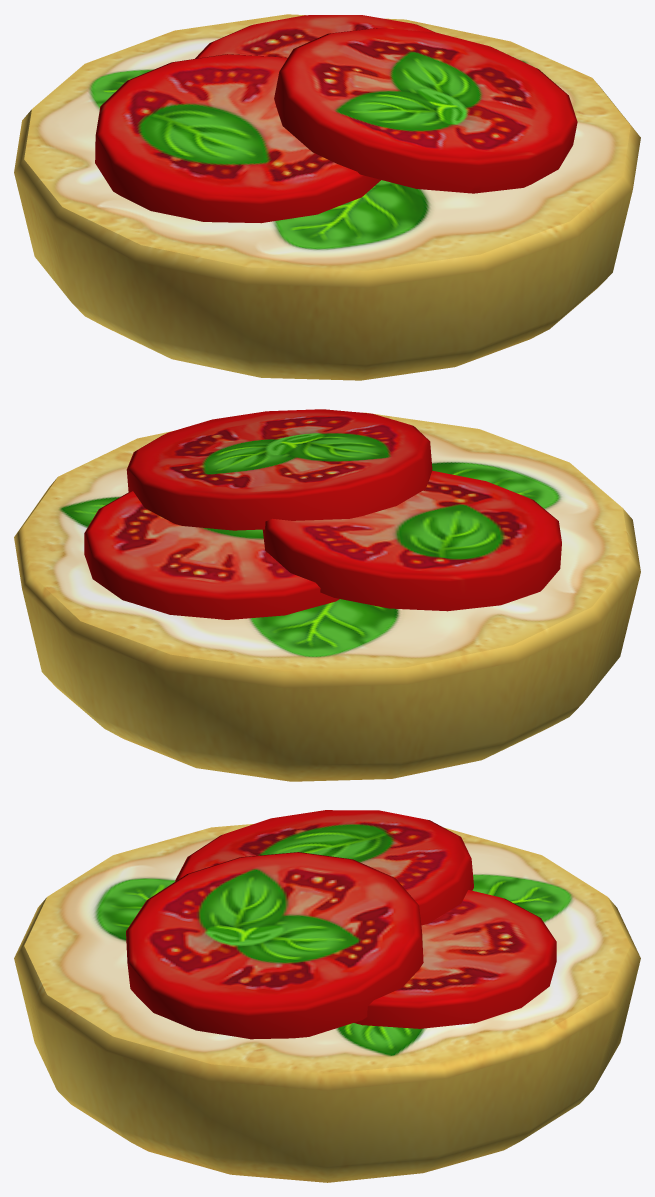
The model's file is 011-Bagels_Halves_03.FBX.
3 renders of one model, top to bottom at view 1: azimuth 30°, elevation 25°; view 2: azimuth 150°, elevation 25°; view 3: azimuth 270°, elevation 25°, orthographic.
Visible parts, largest first — view 1: 011-Bagels_Halves_03; view 2: 011-Bagels_Halves_03; view 3: 011-Bagels_Halves_03.
Boxes of the visible parts, x1,y1,x2,y2 form: 011-Bagels_Halves_03: (14, 14, 640, 380); 011-Bagels_Halves_03: (14, 409, 640, 781); 011-Bagels_Halves_03: (14, 810, 640, 1182).
Bounding box in the file's own units: 17.65 × 6.58 × 17.65.
